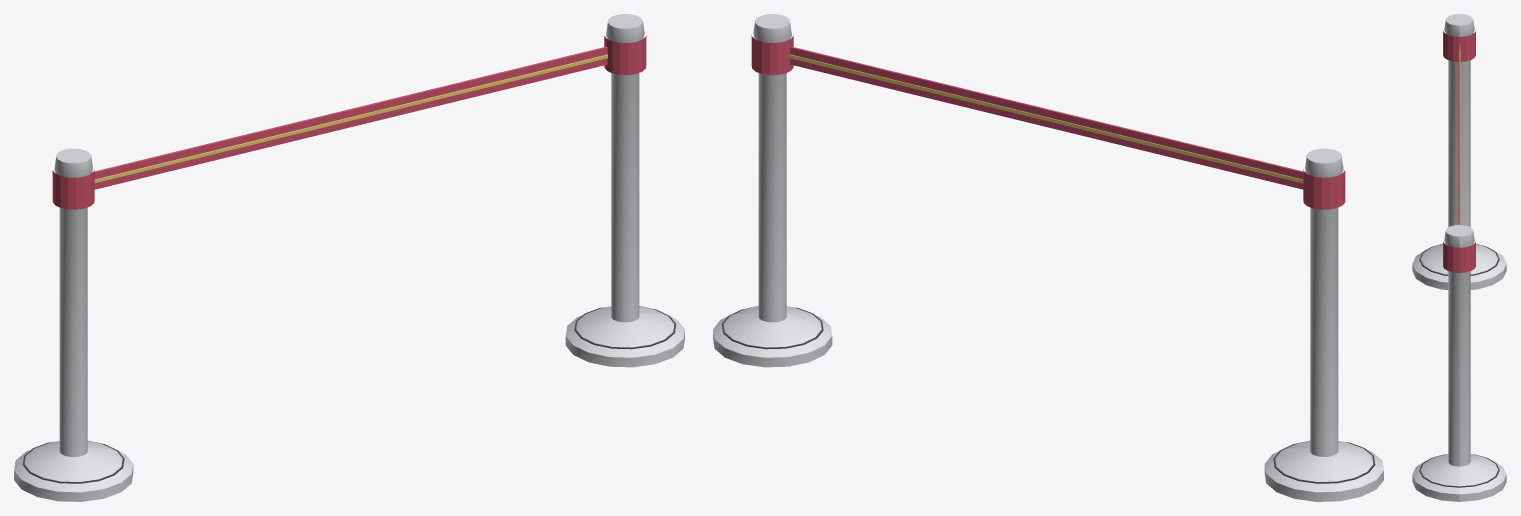
The model's file is cinema-multiplex-and-foyer-queue-rail-d9e14f45__34679.glb.
3 renders of one model, left to right at view 1: azimuth 30°, elevation 25°; view 2: azimuth 150°, elevation 25°; view 3: azimuth 270°, elevation 25°, orthographic. The views are drawn at different scales.
Parts seen in each view (by area): view 1: queue-rail; view 2: queue-rail; view 3: queue-rail.
Part boxes in pixels (left/top/right/bottom): queue-rail: left=14, top=14, right=684, bottom=501; queue-rail: left=713, top=14, right=1383, bottom=501; queue-rail: left=1412, top=14, right=1506, bottom=501.
Bounding box in the file's own units: 2.14 × 1 × 0.3399.
